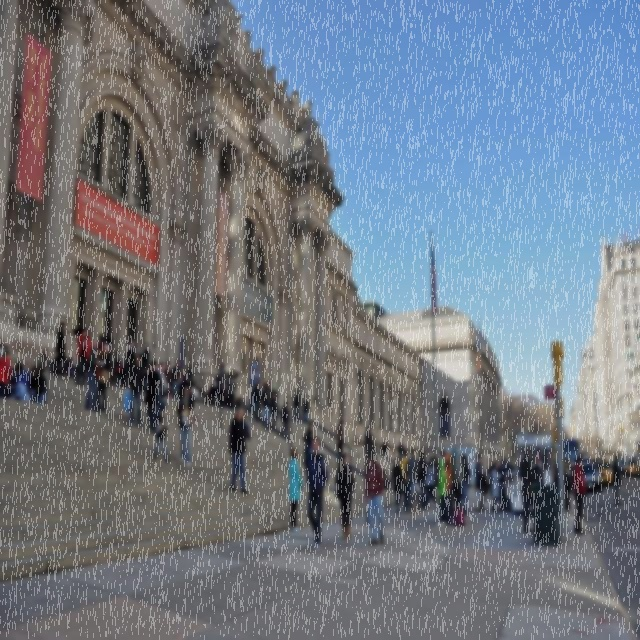pessoa: (302, 432, 330, 550), (363, 450, 389, 546), (334, 452, 356, 542), (228, 403, 249, 495), (176, 382, 197, 469), (142, 360, 166, 434), (84, 340, 105, 412), (127, 352, 146, 428), (288, 446, 304, 533), (94, 343, 113, 415), (518, 446, 533, 535), (572, 454, 588, 536), (402, 446, 420, 514), (388, 454, 407, 514), (152, 401, 170, 464), (76, 327, 92, 388), (435, 457, 448, 529), (451, 444, 464, 512), (8, 361, 30, 400), (54, 320, 68, 381), (459, 452, 472, 516), (415, 448, 428, 512), (156, 360, 172, 412), (473, 452, 486, 514), (28, 365, 48, 404), (130, 42, 148, 82), (498, 458, 511, 513), (0, 348, 13, 400), (9, 376, 32, 404), (400, 449, 410, 513), (490, 460, 502, 513), (611, 454, 623, 506), (126, 337, 138, 388), (444, 456, 453, 524), (528, 446, 552, 470), (562, 459, 572, 516), (302, 421, 315, 463), (227, 367, 240, 408), (218, 363, 229, 408), (423, 456, 432, 509), (364, 425, 374, 471), (336, 418, 345, 469), (427, 459, 437, 504), (260, 386, 270, 430), (280, 398, 290, 441), (531, 455, 545, 485), (478, 458, 486, 510), (226, 370, 236, 411), (174, 371, 187, 402), (171, 358, 181, 398), (38, 347, 52, 375), (120, 353, 130, 392), (506, 456, 517, 490), (293, 387, 303, 424), (332, 290, 342, 326), (473, 390, 481, 434), (252, 380, 262, 415), (163, 360, 172, 398), (487, 459, 495, 501), (258, 166, 269, 196), (214, 366, 222, 406), (65, 356, 78, 379), (112, 349, 120, 386), (140, 342, 150, 371), (270, 392, 278, 428), (564, 456, 572, 491), (430, 446, 440, 474), (208, 381, 218, 407), (302, 393, 310, 425), (190, 378, 200, 402), (187, 358, 195, 383), (249, 386, 256, 412), (397, 440, 405, 462), (244, 421, 252, 442), (268, 381, 274, 404), (439, 448, 452, 458), (370, 429, 375, 453), (554, 458, 558, 485), (381, 440, 388, 454), (236, 397, 243, 410), (496, 457, 502, 472), (204, 390, 210, 405), (111, 361, 116, 378), (10, 366, 18, 376), (180, 366, 187, 376), (266, 381, 270, 396), (260, 382, 266, 392), (603, 462, 610, 468), (101, 338, 108, 344), (244, 397, 248, 407), (134, 346, 138, 356)
